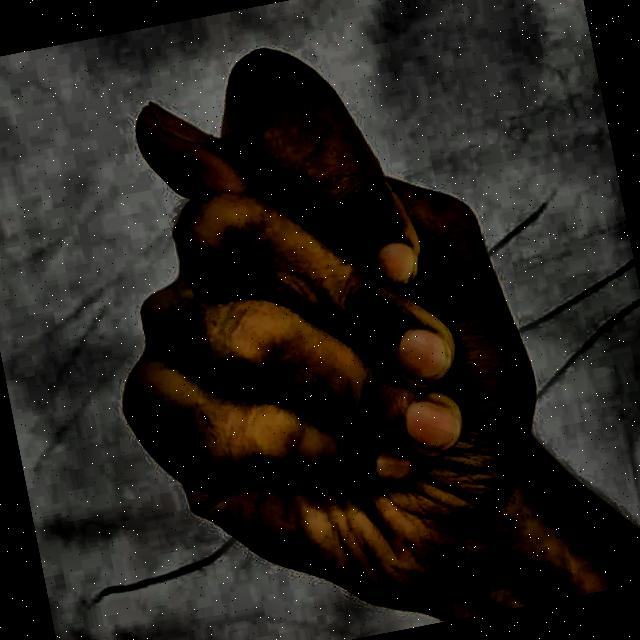Ta: (44, 0, 629, 640)
